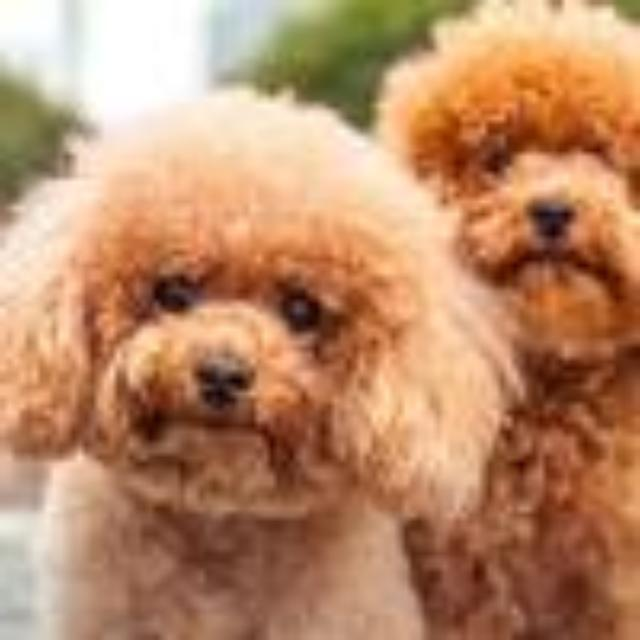dog: (4, 99, 422, 504)
